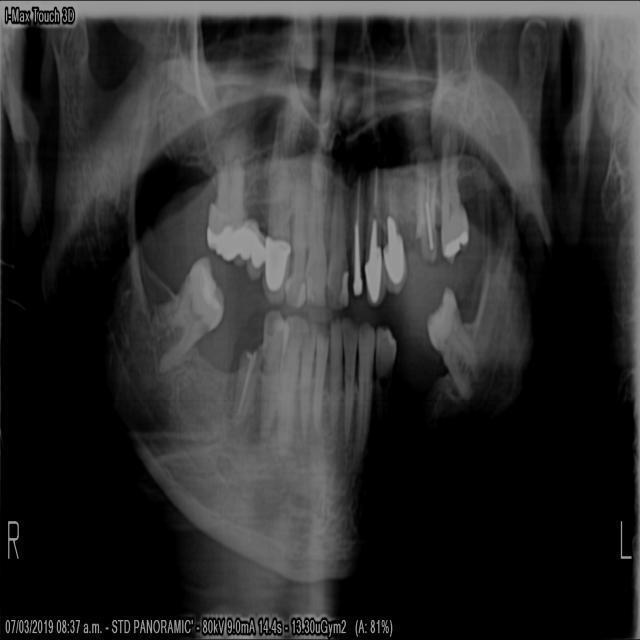LCD: (353, 320, 375, 467)
LCU: (363, 175, 384, 311)
LID: (340, 308, 358, 456), (327, 318, 341, 433)
LIU: (325, 167, 348, 313), (348, 170, 368, 306)
LMD: (424, 280, 483, 407)
LMU: (437, 158, 473, 262), (412, 165, 438, 268)
LPMD: (374, 323, 397, 382)
LPMU: (382, 177, 408, 298)
RCD: (276, 311, 303, 458)
RID: (297, 313, 316, 457), (310, 326, 327, 423)
RIU: (305, 164, 329, 311), (283, 170, 307, 310)
RMD: (147, 251, 223, 373)
RMU: (203, 164, 248, 265)
RPMD: (256, 304, 287, 437), (229, 336, 263, 428)
RPMU: (261, 159, 290, 305), (244, 171, 268, 286)
